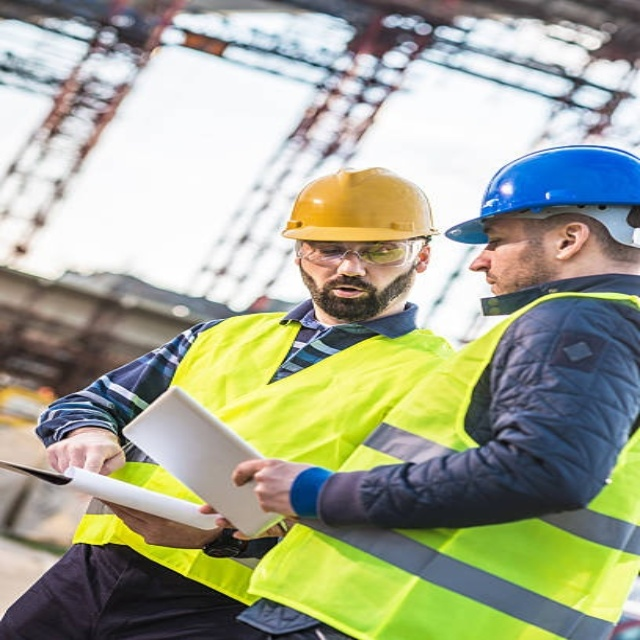Gafas: (296, 239, 425, 267)
Sin_gafas: (480, 222, 544, 252)
Sin_guantes: (224, 457, 325, 525), (105, 498, 232, 550), (44, 429, 126, 478)
Sin_mascara: (471, 257, 535, 295), (322, 276, 378, 308)
